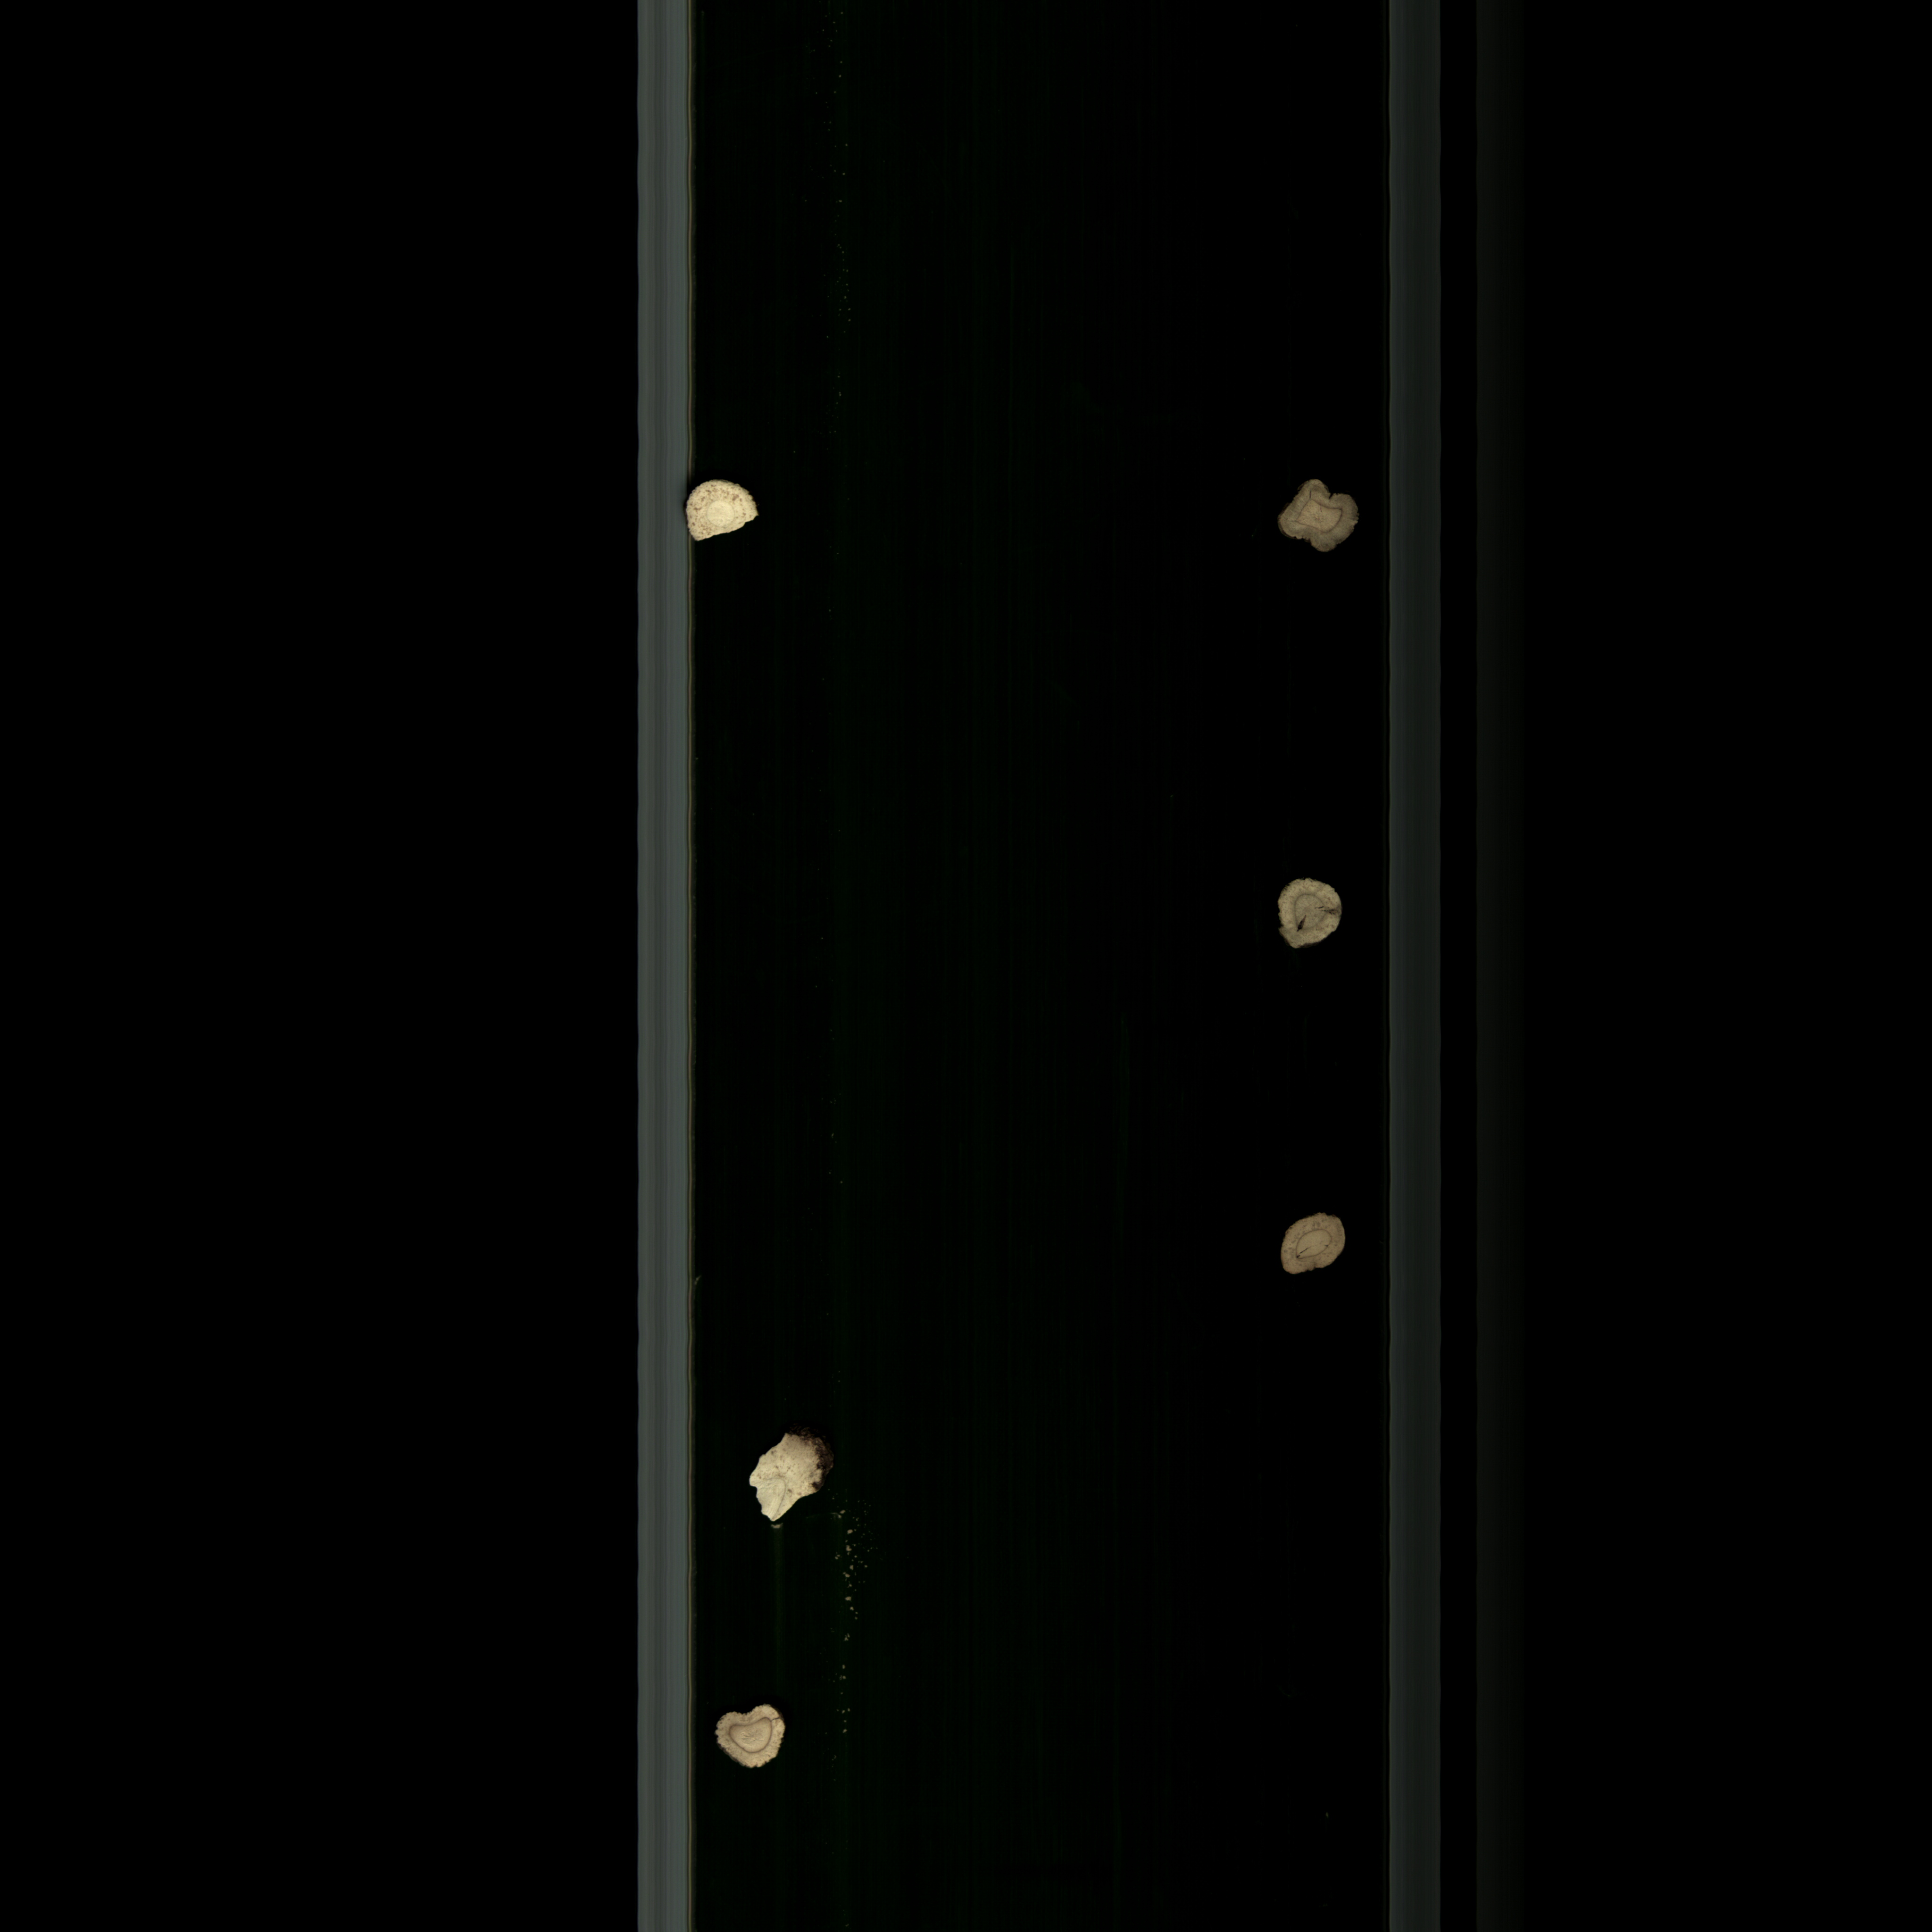debris: (732, 1417, 844, 1543), (674, 472, 809, 554)
distortion: (711, 1690, 789, 1790)
hole: (1254, 870, 1362, 962)
moldy: (1269, 467, 1353, 571), (1284, 1189, 1355, 1292)
